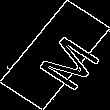M_NW: (17, 22, 93, 88)
